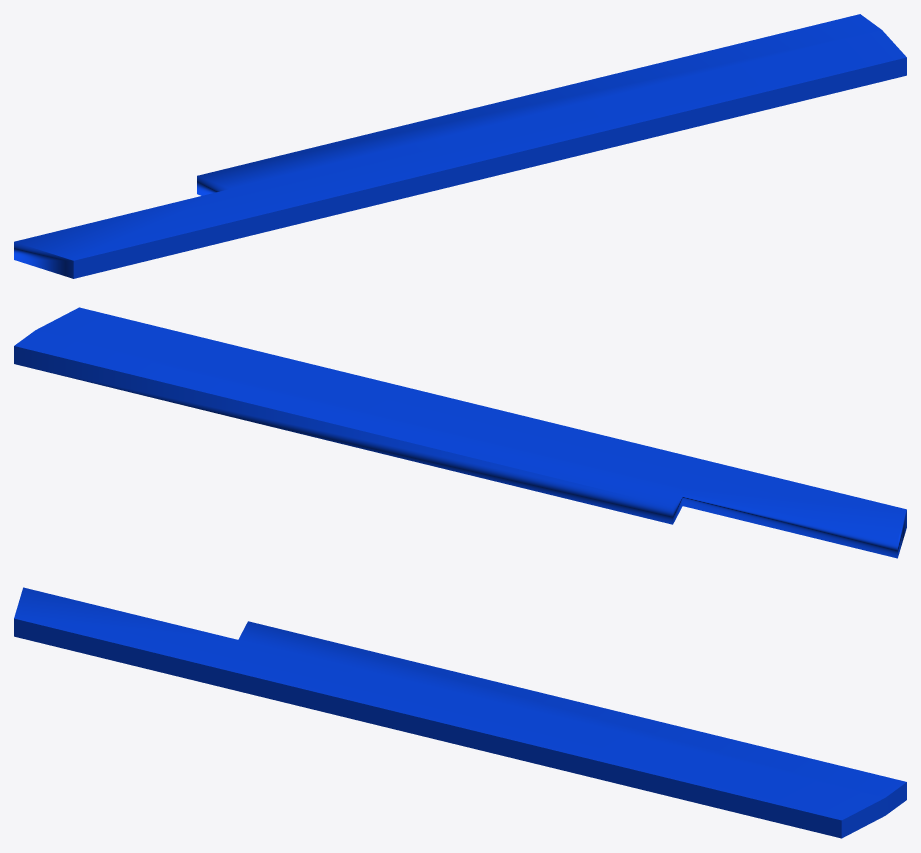
File: Board_02.fbx
The picture shows the model from 3 angles, top to bottom: view 1: azimuth 30°, elevation 25°; view 2: azimuth 150°, elevation 25°; view 3: azimuth 330°, elevation 25°; orthographic projection.
Visible parts, largest first — view 1: Board_02; view 2: Board_02; view 3: Board_02.
Boxes of the visible parts, <box> form: Board_02: <box>14,14,906,278</box>; Board_02: <box>14,307,906,558</box>; Board_02: <box>14,587,906,838</box>.
Bounding box in the file's own units: 183 × 3.65 × 20.48.
